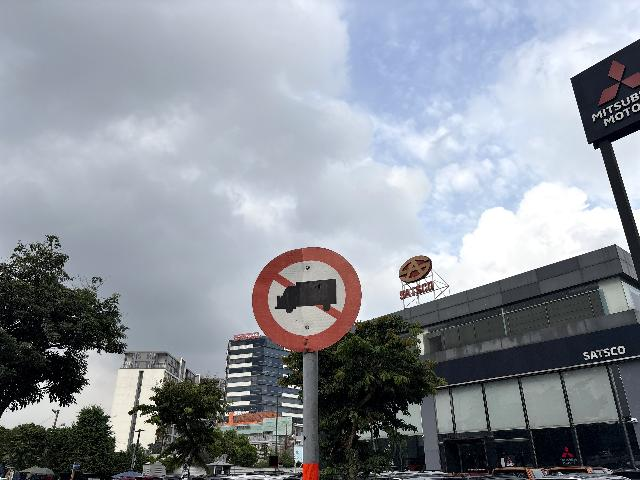cam-xe-tai: (252, 247, 362, 353)
